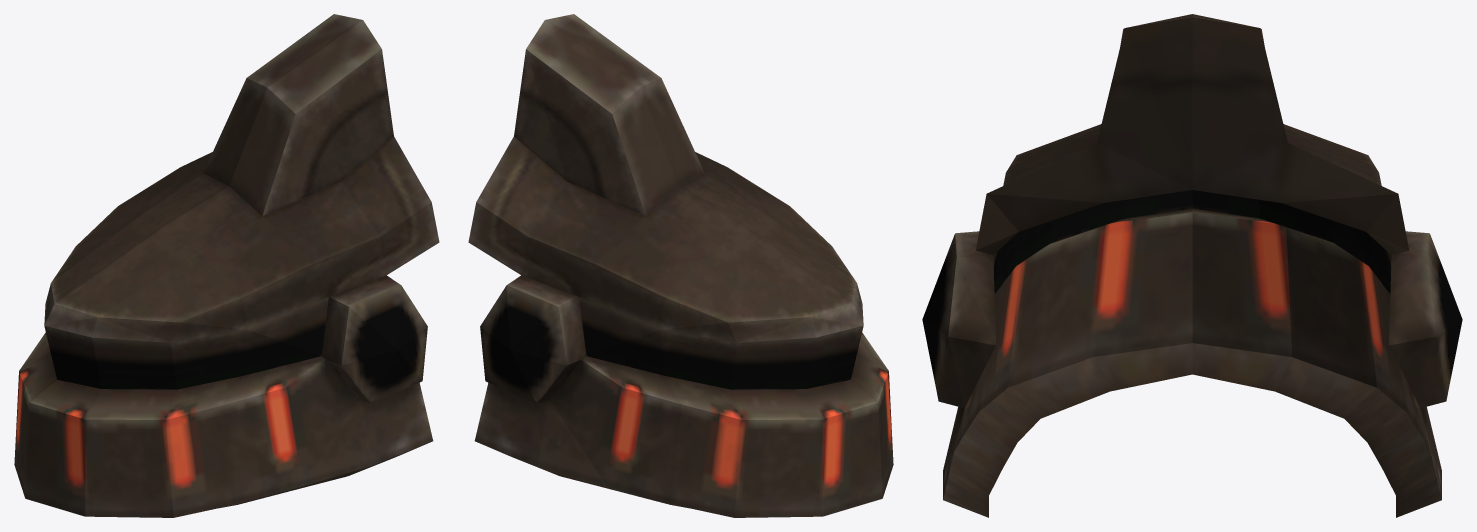
Rendered from Bison_warlordHelmet.obj.
3 views of the same model, side by side, from view 1: azimuth 30°, elevation 25°; view 2: azimuth 150°, elevation 25°; view 3: azimuth 270°, elevation 25° (orthographic). The views are drawn at different scales.
Visible parts, largest first — view 1: Bison_warlordHelmet_tri; view 2: Bison_warlordHelmet_tri; view 3: Bison_warlordHelmet_tri.
Boxes of the visible parts, x1,y1,x2,y2 form: Bison_warlordHelmet_tri: [14, 14, 439, 517]; Bison_warlordHelmet_tri: [468, 14, 893, 517]; Bison_warlordHelmet_tri: [922, 14, 1462, 517].
Bounding box in the file's own units: 0.845 × 0.9611 × 0.8249.
Materials: 1 (1 with a texture image).
